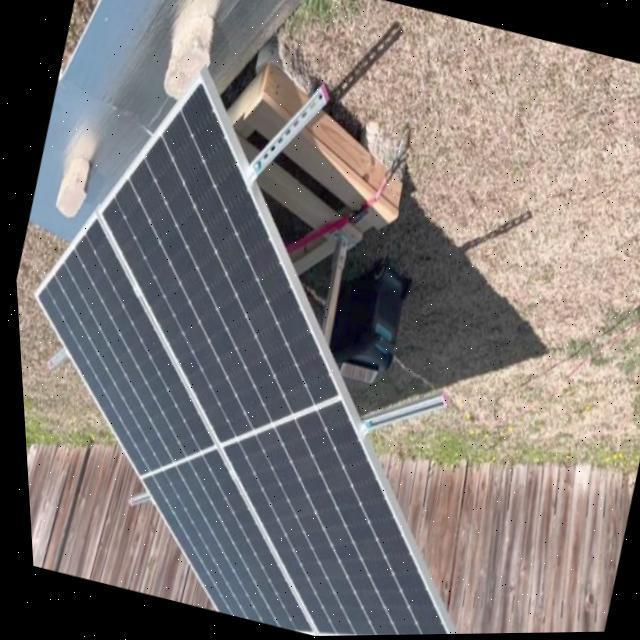Normal Solar Panel: (2, 44, 572, 640)
